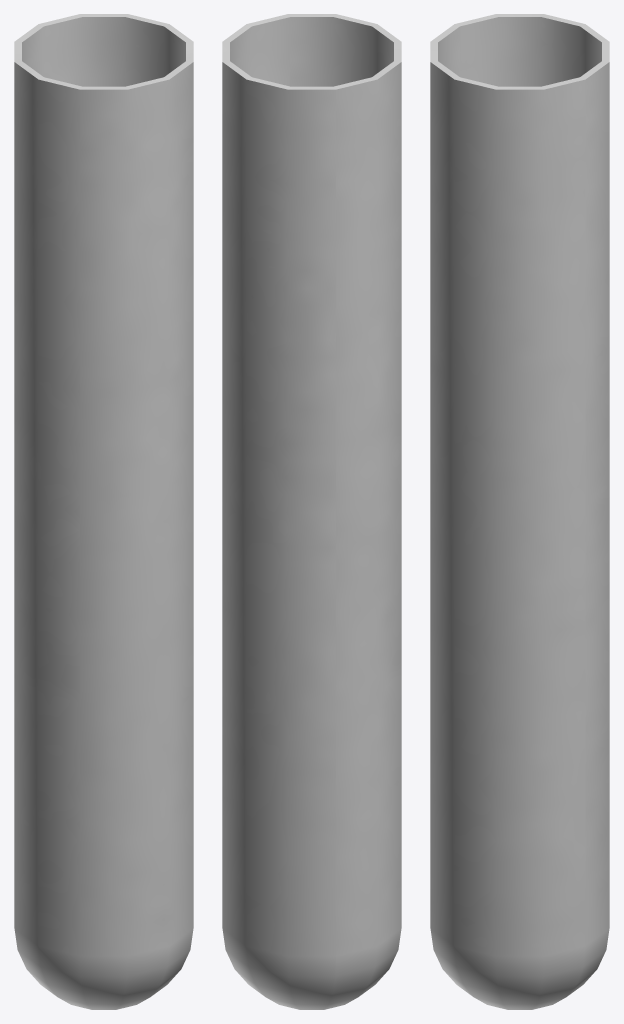
File: SM_消解罐.fbx
3 renders of one model, left to right at view 1: azimuth 30°, elevation 25°; view 2: azimuth 150°, elevation 25°; view 3: azimuth 270°, elevation 25°, orthographic.
Visible parts, largest first — view 1: SM_消解罐; view 2: SM_消解罐; view 3: SM_消解罐.
Part boxes in pixels (<box>): SM_消解罐: <box>14,14,193,1009</box>; SM_消解罐: <box>222,14,401,1009</box>; SM_消解罐: <box>430,14,609,1009</box>.
Bounding box in the file's own units: 0.0183 × 0.1074 × 0.0183.
